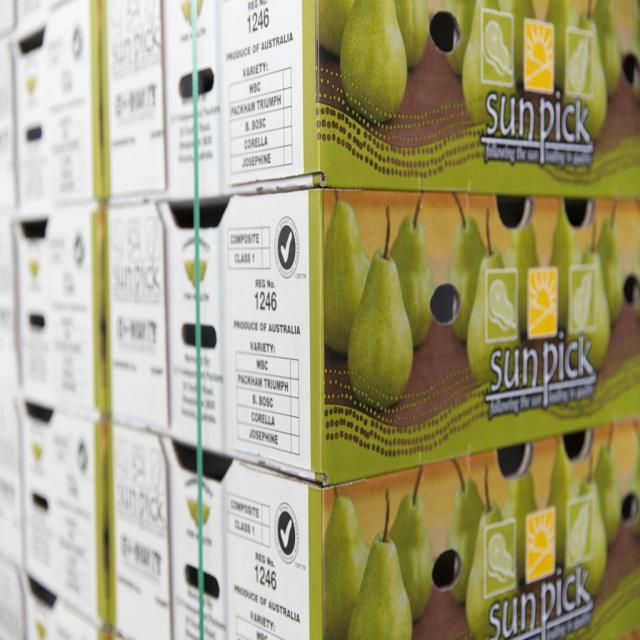Pear: (348, 244, 413, 410), (463, 494, 522, 640), (340, 0, 409, 123), (321, 493, 377, 640), (325, 197, 373, 351), (348, 531, 414, 639), (460, 0, 517, 124), (389, 208, 436, 350), (562, 468, 610, 598), (567, 241, 611, 381), (564, 13, 607, 143), (393, 488, 435, 619), (448, 467, 490, 597), (453, 215, 493, 345), (504, 214, 544, 338), (546, 440, 582, 564), (551, 201, 583, 337), (506, 468, 541, 574), (545, 0, 583, 90), (588, 0, 624, 94), (595, 442, 627, 545), (597, 211, 625, 327), (507, 0, 539, 88), (443, 0, 479, 75), (316, 0, 358, 58), (395, 0, 431, 67)
